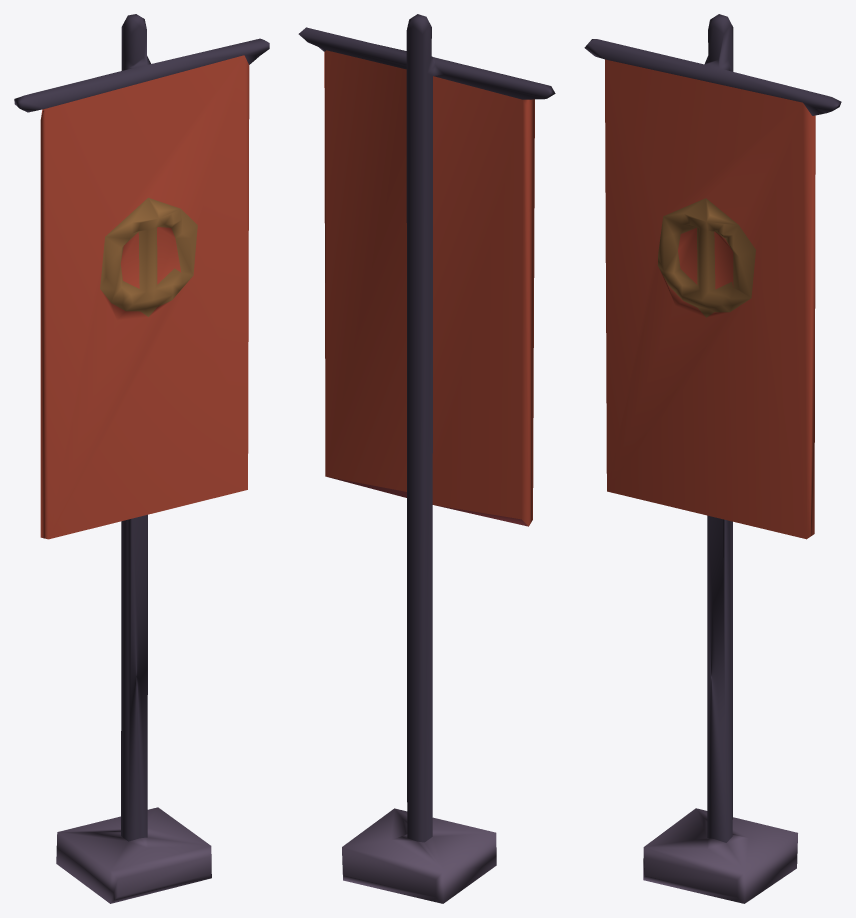
The model's file is ritual_banner.glb.
3 renders of one model, left to right at view 1: azimuth 30°, elevation 25°; view 2: azimuth 150°, elevation 25°; view 3: azimuth 330°, elevation 25°, orthographic.
Parts seen in each view (by area): view 1: ritual_banner; view 2: ritual_banner; view 3: ritual_banner.
Boxes of the visible parts, box(x1,y1,x2,y2) form: ritual_banner: box(14, 14, 269, 903); ritual_banner: box(298, 14, 555, 903); ritual_banner: box(584, 14, 841, 903).
Bounding box in the file's own units: 0.8837 × 2.9 × 0.36.
